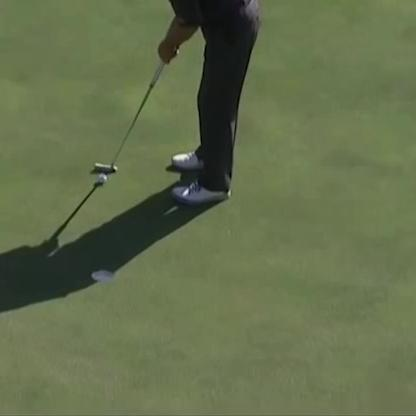golfball: (96, 171, 103, 182)
